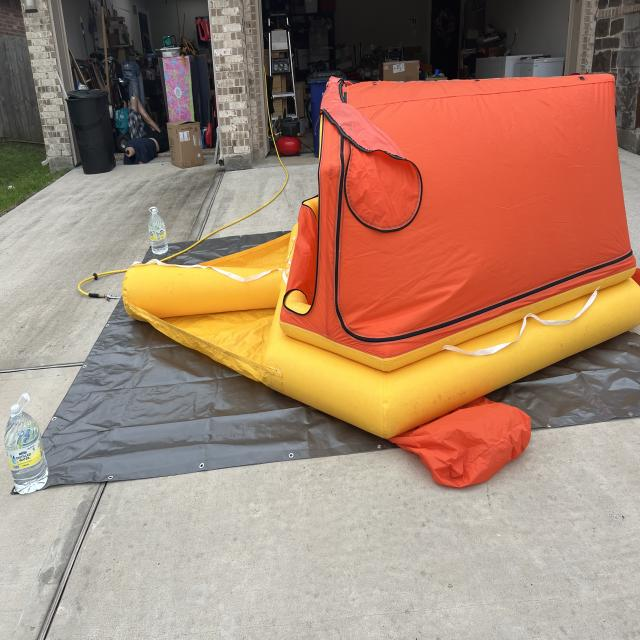Multi-person_life_raft: (124, 74, 639, 490)
